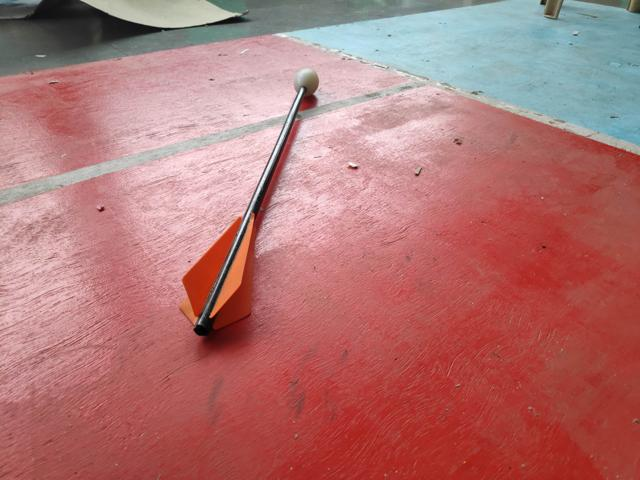Head: (291, 64, 322, 101)
Tail: (173, 211, 257, 342)
